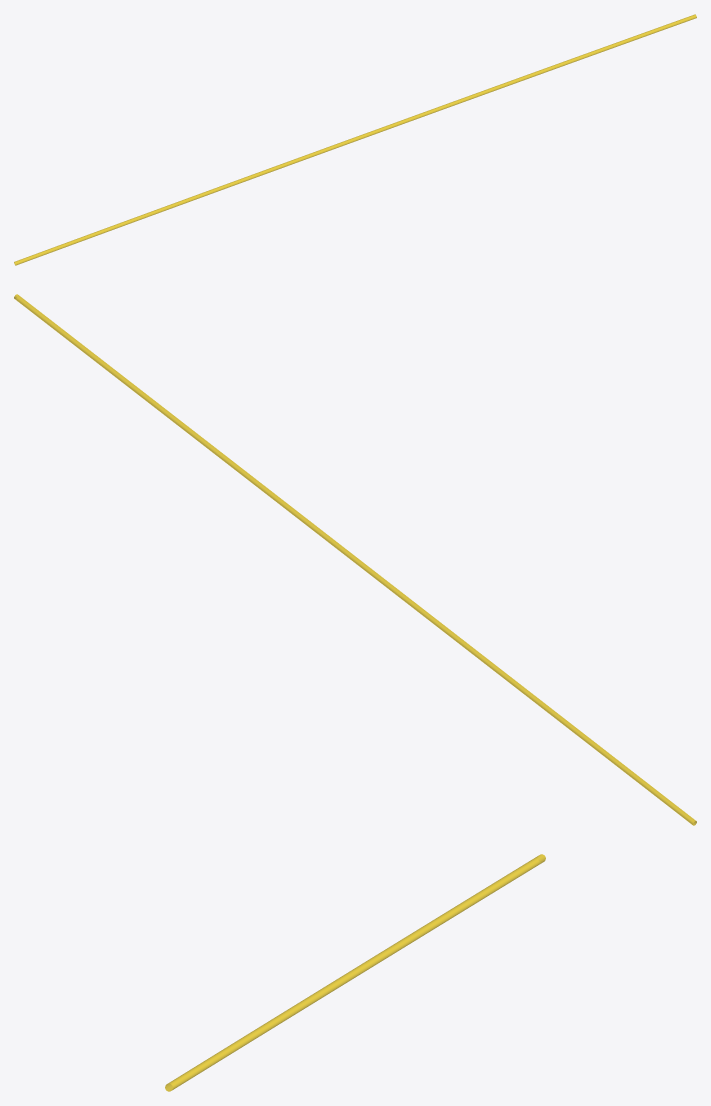
Rendered from Event_17758602_track_25.fbx.
3 renders of one model, top to bottom at view 1: azimuth 30°, elevation 25°; view 2: azimuth 150°, elevation 25°; view 3: azimuth 270°, elevation 25°, orthographic. The views are drawn at different scales.
Parts seen in each view (by area): view 1: Model; view 2: Model; view 3: Model.
Part boxes in pixels (box(x1,y1,x2,y2)): Model: box(14, 14, 696, 265); Model: box(14, 294, 696, 825); Model: box(165, 854, 545, 1091).
Size of the model in its own units: 6.62 by 1.89 by 1.85.
